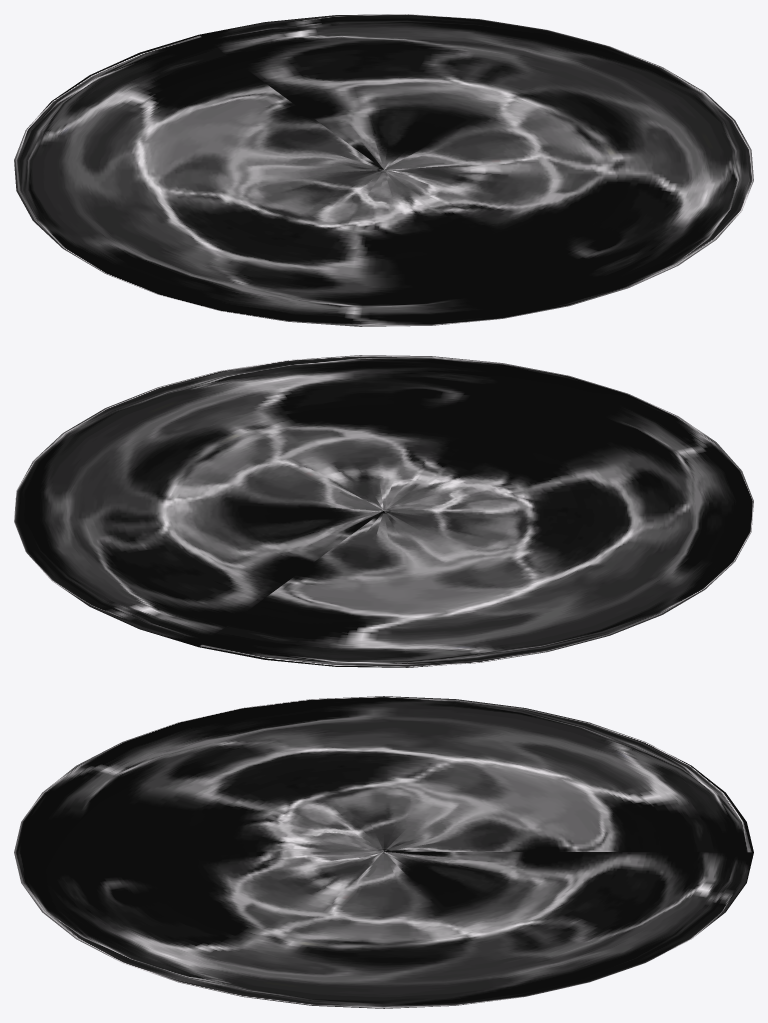
The model's file is yuanxing_2UV_1.FBX.
3 renders of one model, top to bottom at view 1: azimuth 30°, elevation 25°; view 2: azimuth 150°, elevation 25°; view 3: azimuth 270°, elevation 25°, orthographic.
Visible parts, largest first — view 1: fx_Sphere_2UV; view 2: fx_Sphere_2UV; view 3: fx_Sphere_2UV.
Part boxes in pixels (x1,y1,x2,y2): fx_Sphere_2UV: [14, 14, 753, 326]; fx_Sphere_2UV: [14, 355, 753, 667]; fx_Sphere_2UV: [14, 696, 753, 1008].
Size of the model in its own units: 2159 by 2.18 by 2159.
Materials: 1 (1 with a texture image).
